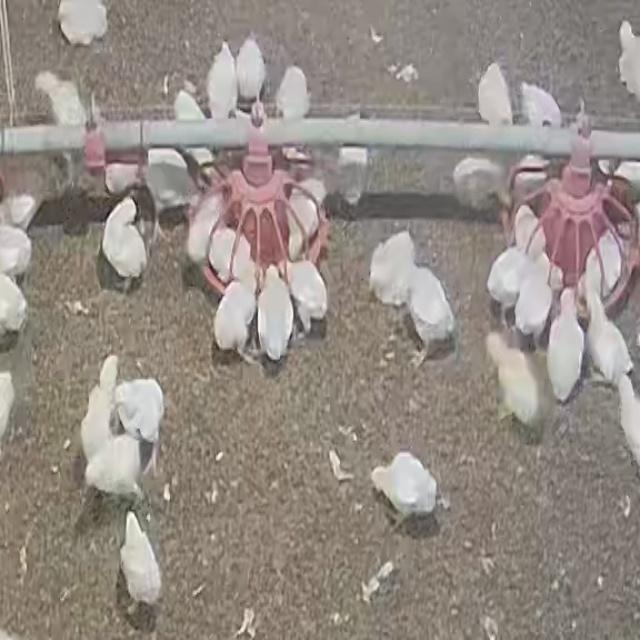chicken: (483, 326, 551, 436), (371, 446, 439, 529), (404, 264, 457, 365), (114, 510, 164, 616), (582, 285, 632, 387), (142, 146, 200, 232), (544, 287, 585, 408), (101, 194, 150, 293), (278, 253, 332, 337), (76, 353, 126, 443), (216, 261, 259, 356), (281, 175, 330, 257), (168, 94, 220, 171), (367, 230, 418, 308), (253, 260, 290, 360), (112, 376, 164, 443), (88, 436, 148, 493), (515, 253, 556, 333), (340, 115, 374, 209), (450, 156, 505, 213), (471, 57, 515, 125), (205, 37, 238, 127), (34, 71, 86, 127), (57, 0, 109, 48), (235, 34, 267, 109), (275, 65, 310, 121)
